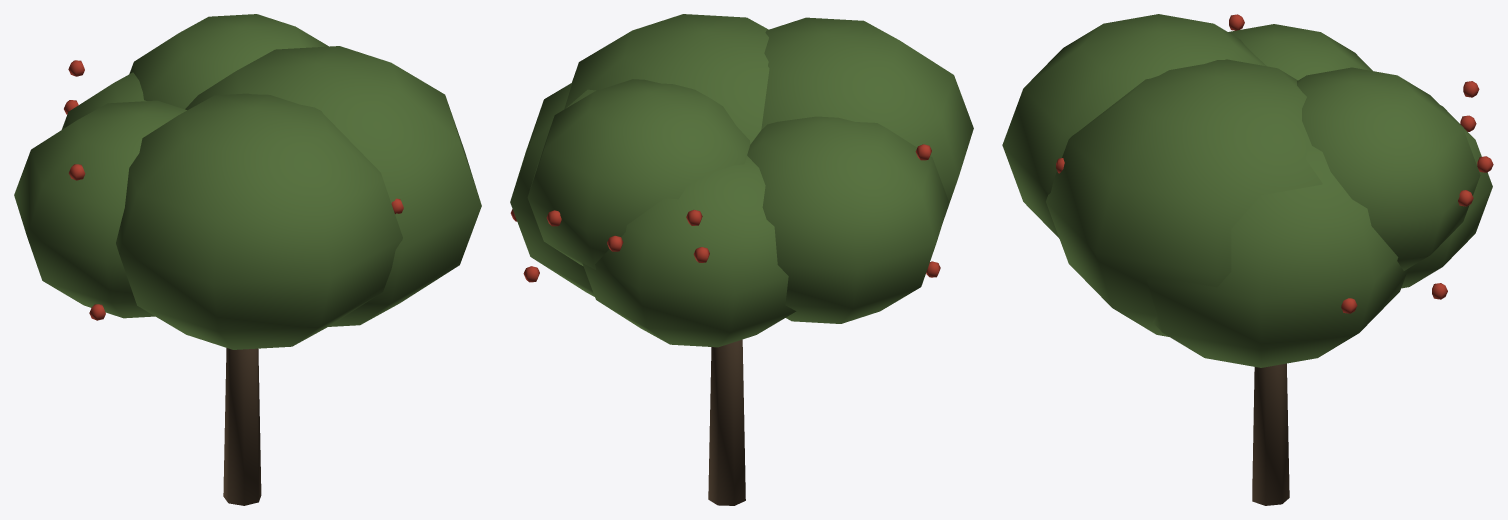
Rendered from apple_tree.glb.
3 views of the same model, side by side, from view 1: azimuth 30°, elevation 25°; view 2: azimuth 150°, elevation 25°; view 3: azimuth 270°, elevation 25° (orthographic). The views are drawn at different scales.
Parts seen in each view (by area): view 1: AppleTree; view 2: AppleTree; view 3: AppleTree.
Part boxes in pixels (left/top/right/bottom): AppleTree: left=14, top=14, right=481, bottom=505; AppleTree: left=510, top=14, right=973, bottom=505; AppleTree: left=1002, top=14, right=1493, bottom=505.
Size of the model in its own units: 2.74 by 2.74 by 2.74.
